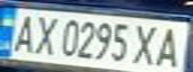0: (54, 16, 81, 58)
2: (75, 17, 100, 61)
5: (109, 19, 136, 64)
9: (90, 18, 115, 62)
A: (151, 24, 190, 69), (6, 11, 39, 54)
X: (130, 21, 163, 66), (30, 12, 60, 56)
